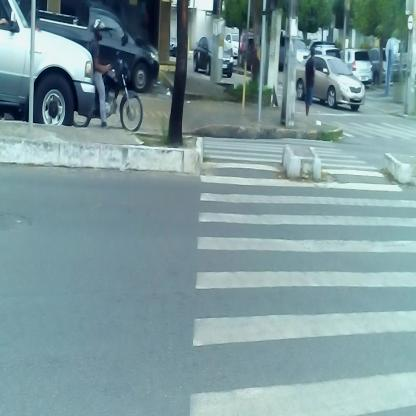crosswalk: (201, 136, 407, 416), (341, 115, 414, 148)
sidewalk: (196, 117, 337, 138)
